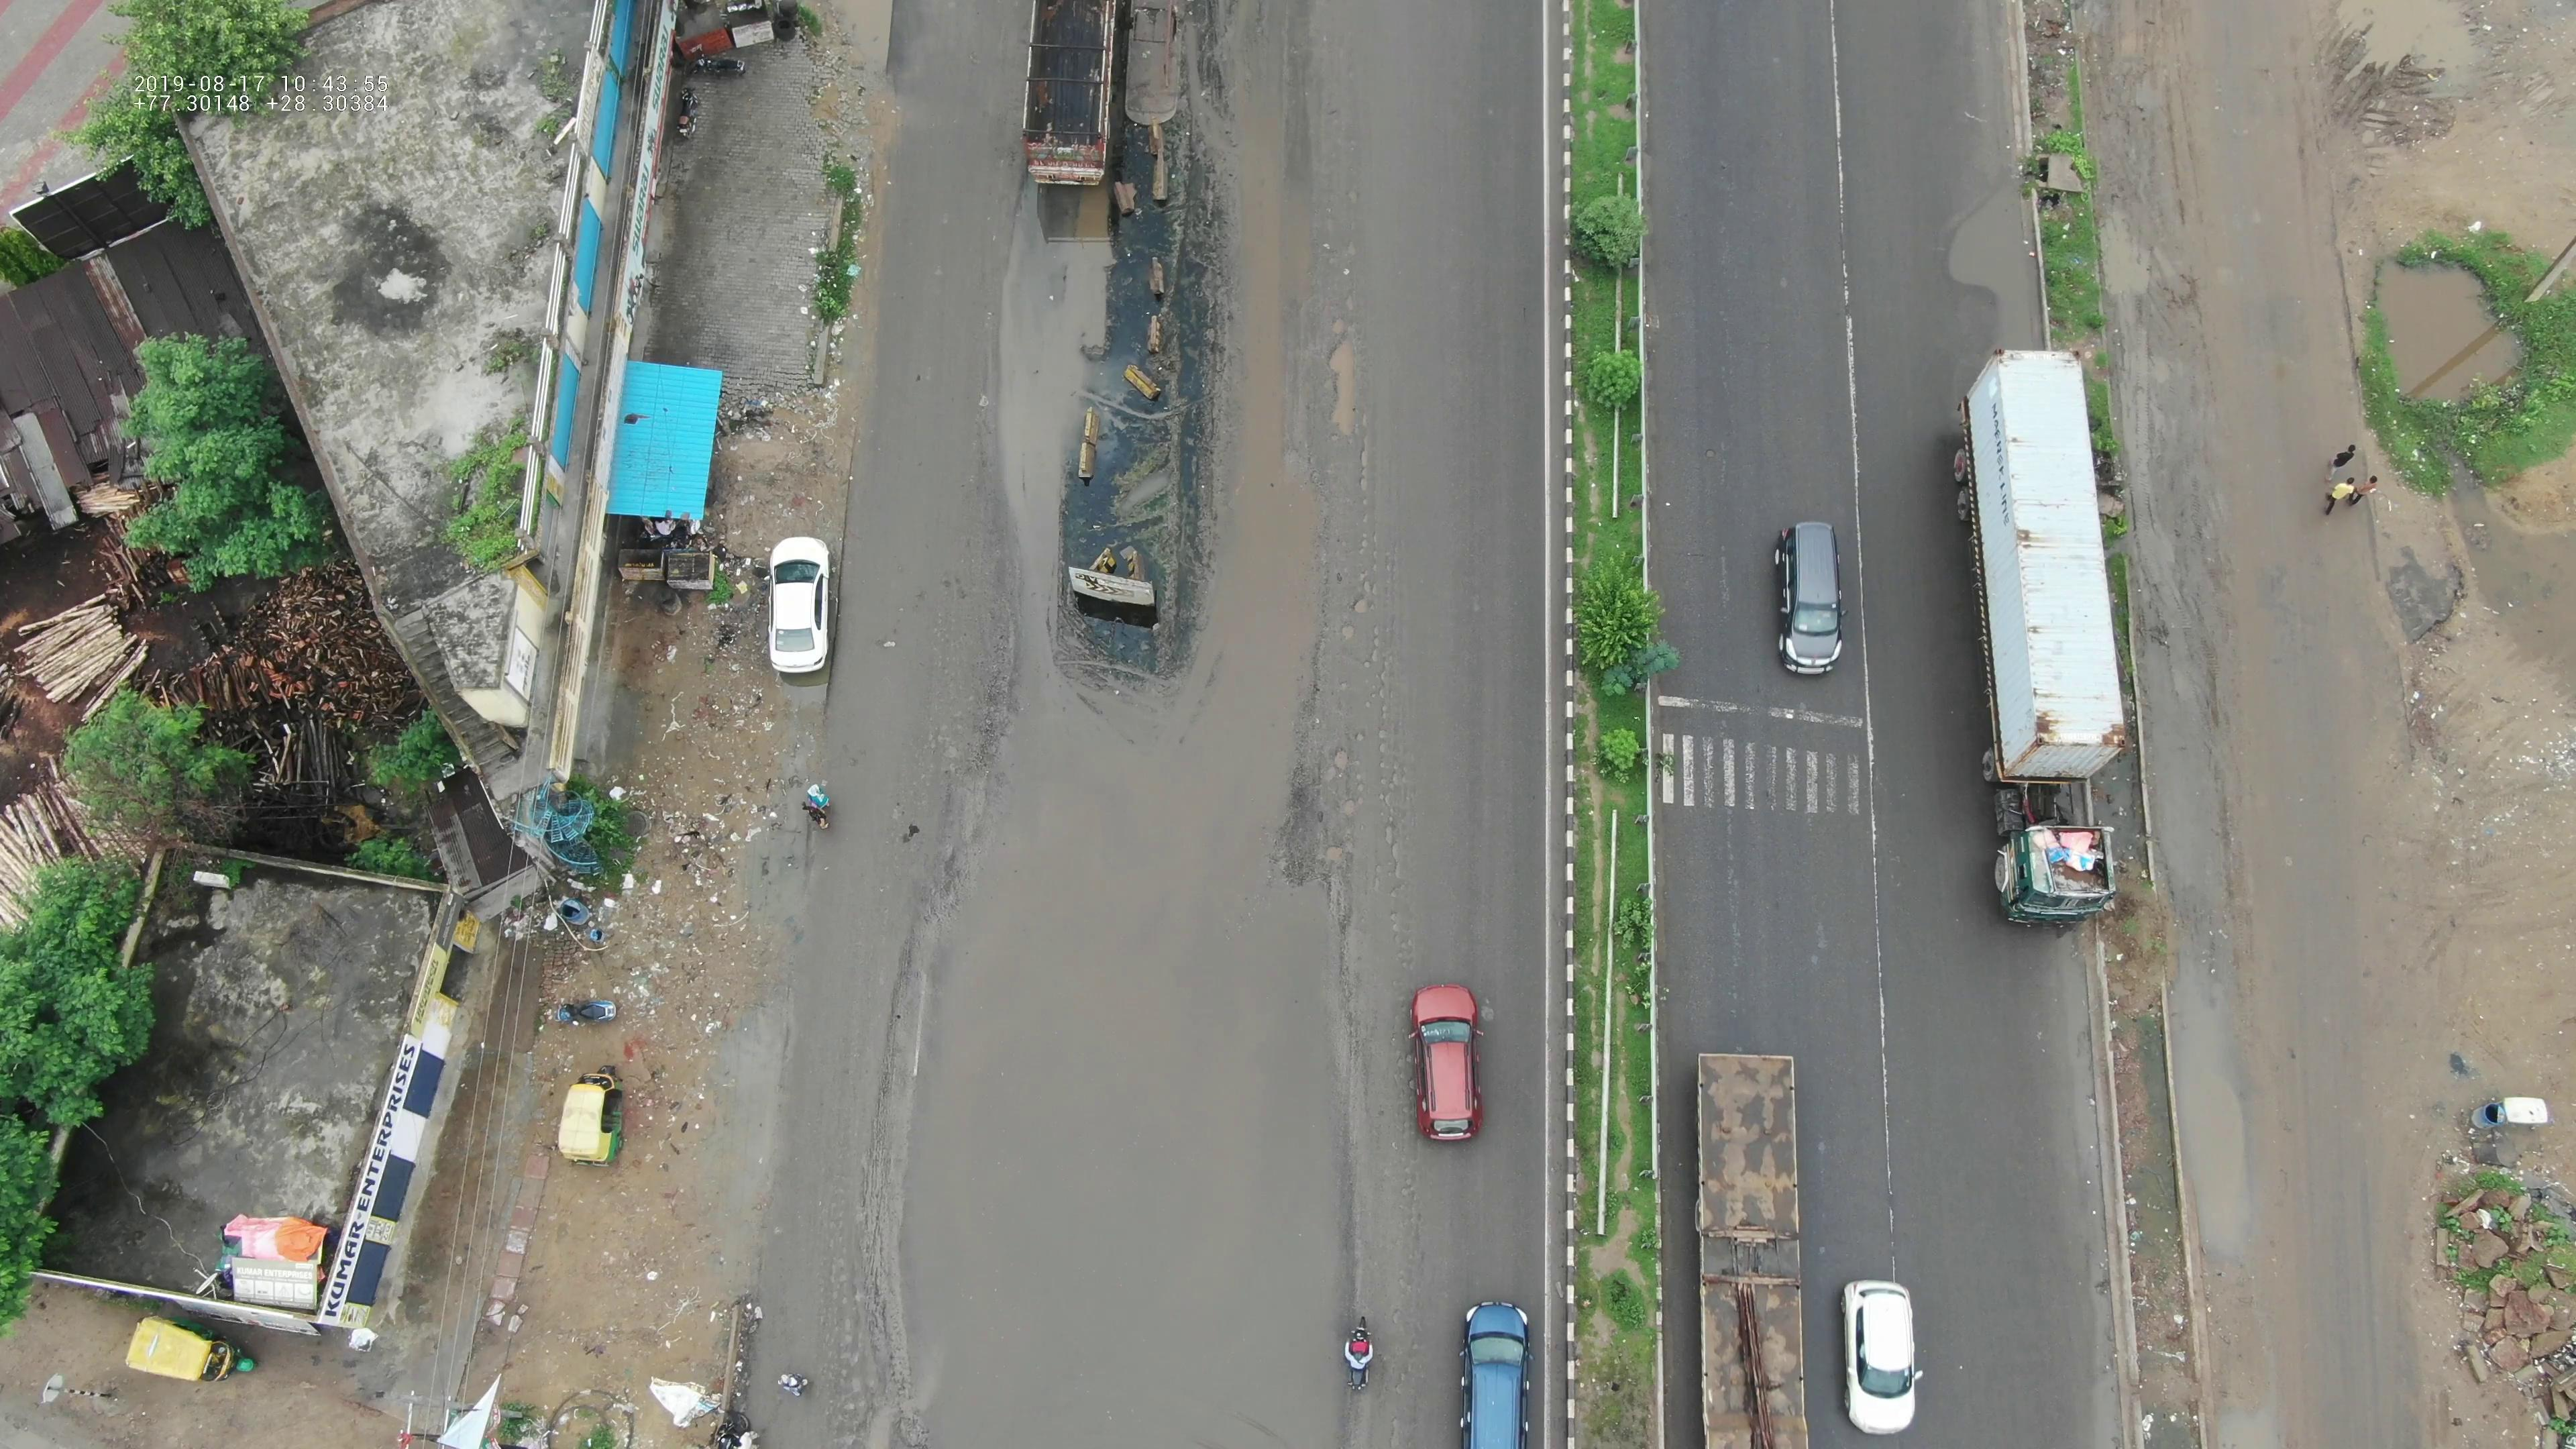Waterlogging: (870, 837, 1332, 1422), (2364, 255, 2528, 407)
